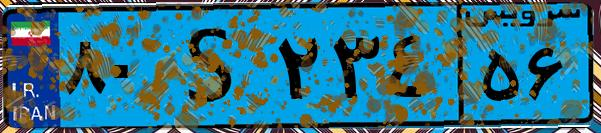0: (110, 28, 158, 98)
2: (270, 28, 330, 110)
3: (330, 28, 385, 110)
4: (385, 28, 445, 110)
5: (475, 38, 525, 113)
6: (525, 38, 570, 115)
8: (57, 26, 110, 100)
S: (158, 12, 270, 120)
